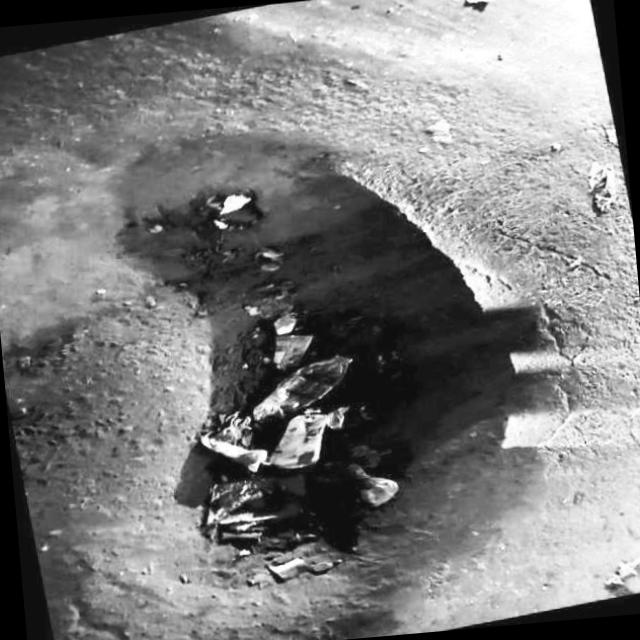Pothole: (160, 145, 565, 560)
